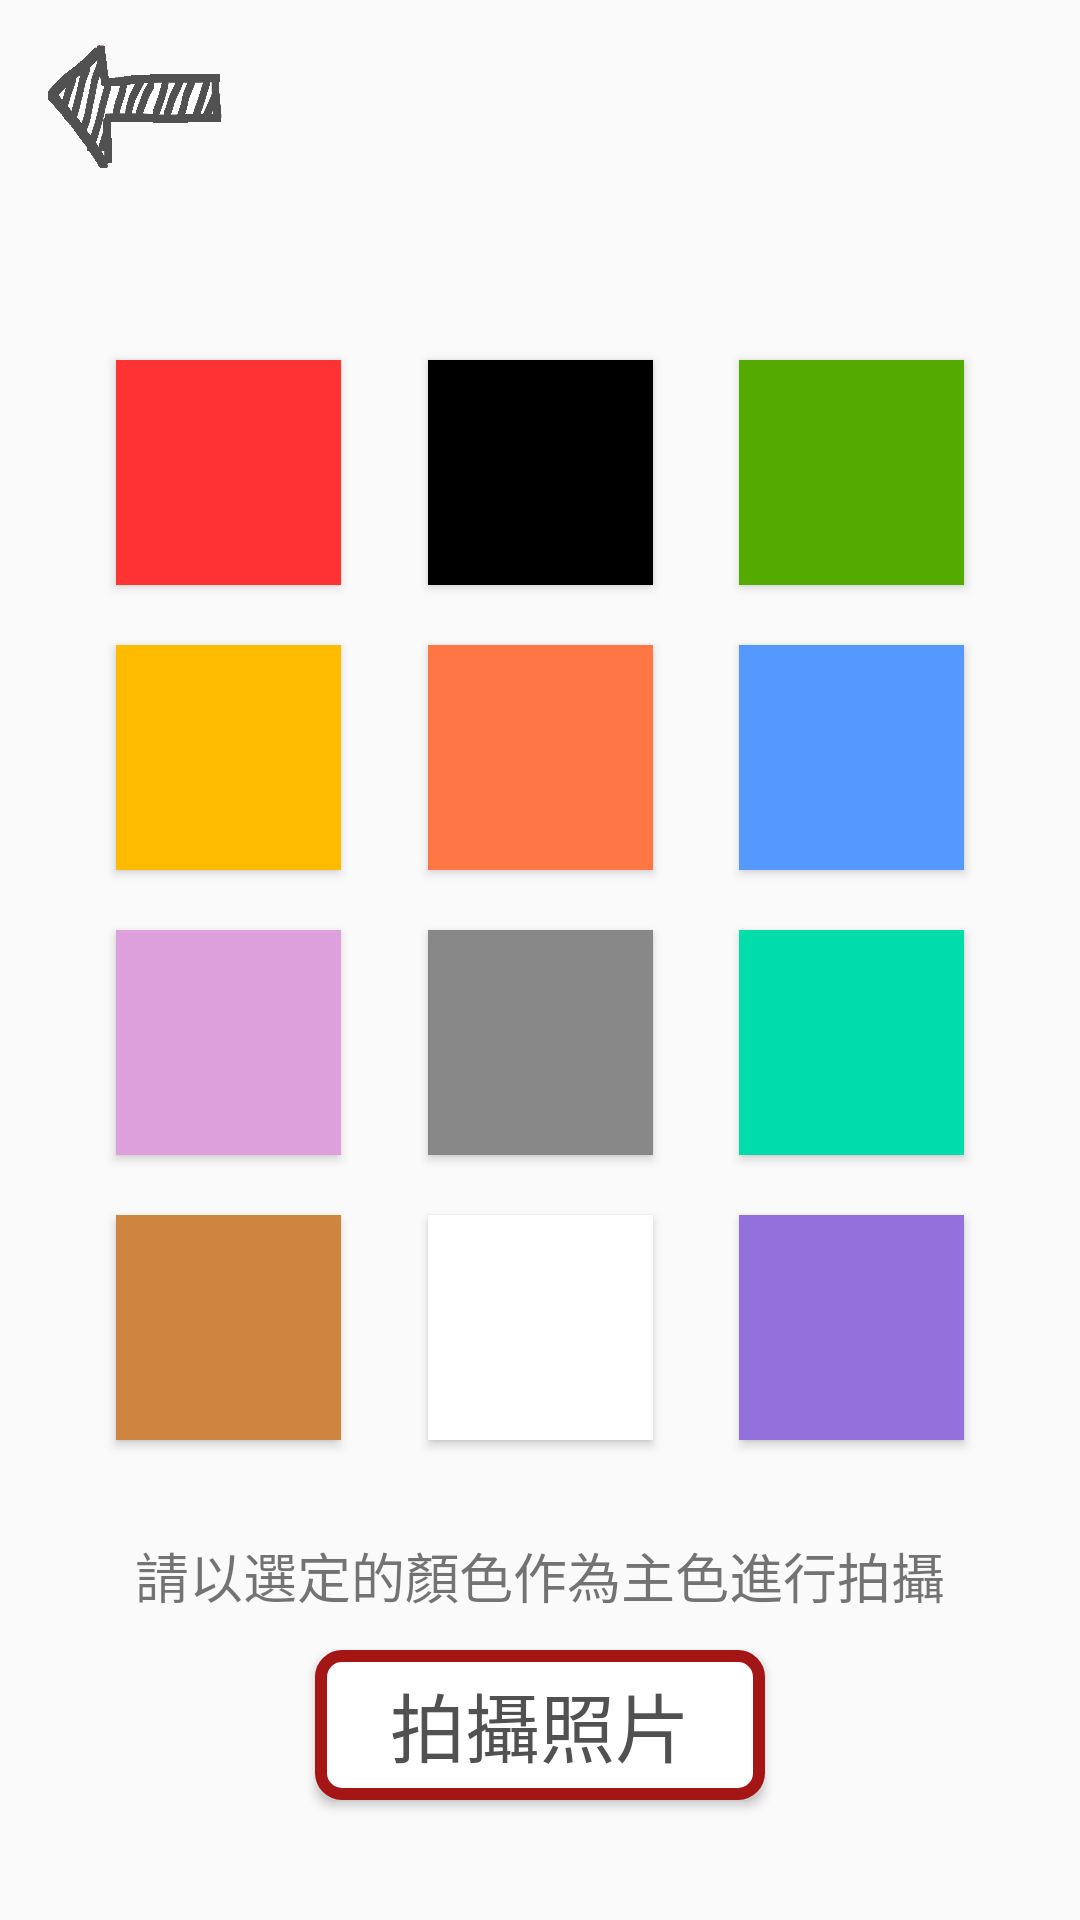

Named icons in this screenshot (1080*1920) and their centers, [x,y]:
return: [135,106]
